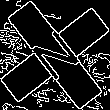N_SE: (24, 23, 86, 87)
